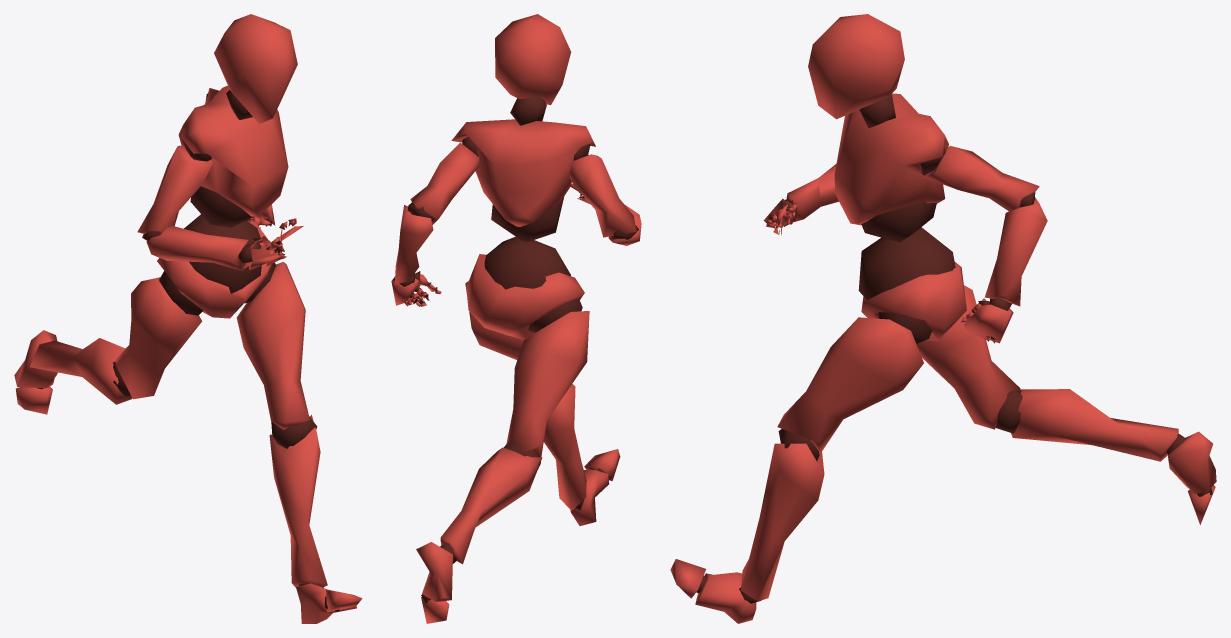
3 views of the same model, side by side, from view 1: azimuth 30°, elevation 25°; view 2: azimuth 150°, elevation 25°; view 3: azimuth 270°, elevation 25° (orthographic). The views are drawn at different scales.
Visible parts, largest first — view 1: Beta_Surface.001; view 2: Beta_Surface.001; view 3: Beta_Surface.001.
Part boxes in pixels (x1,y1,x2,y2): Beta_Surface.001: (14, 14, 362, 623); Beta_Surface.001: (391, 14, 641, 623); Beta_Surface.001: (670, 14, 1216, 623).
Size of the model in its own units: 5.1 by 14.49 by 11.86.
